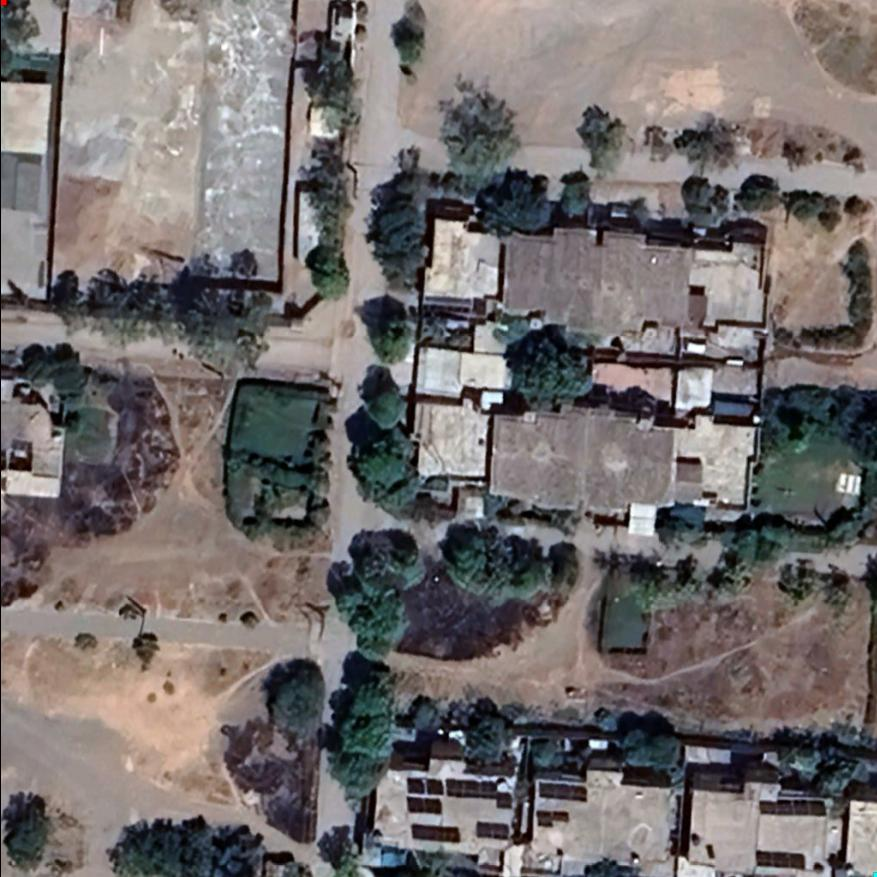Solarpanel: (393, 772, 521, 815), (401, 815, 517, 849), (532, 777, 589, 830), (752, 794, 833, 820), (748, 848, 812, 871)
